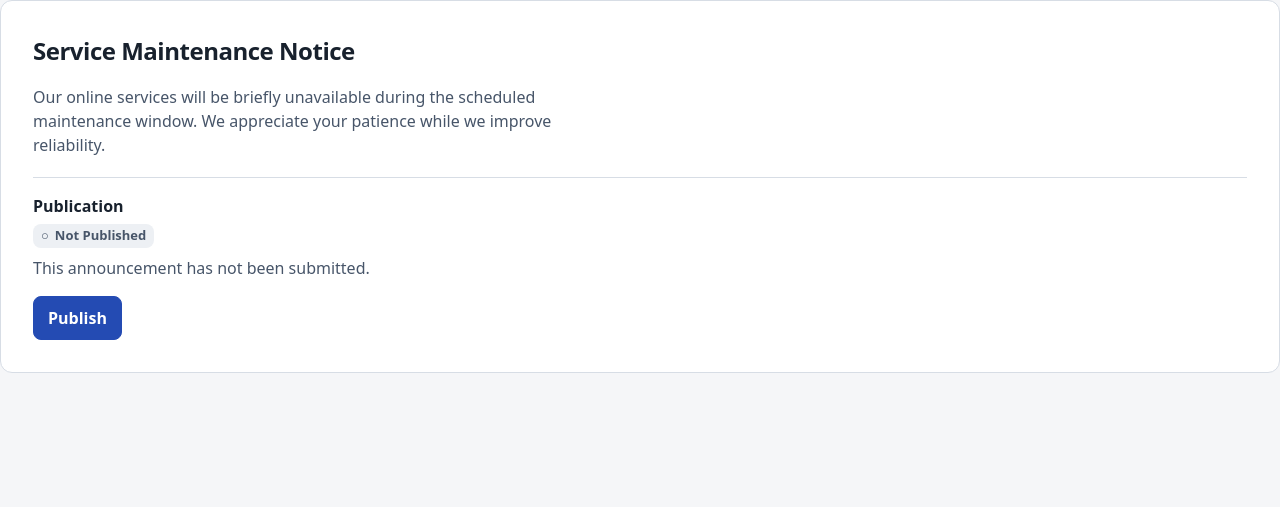
it: recovers a lost response with the original attempt and deduplicates rapid retries
Click the button "Publish" at (77, 318), box [33, 296, 122, 340]
Wait 120 ms
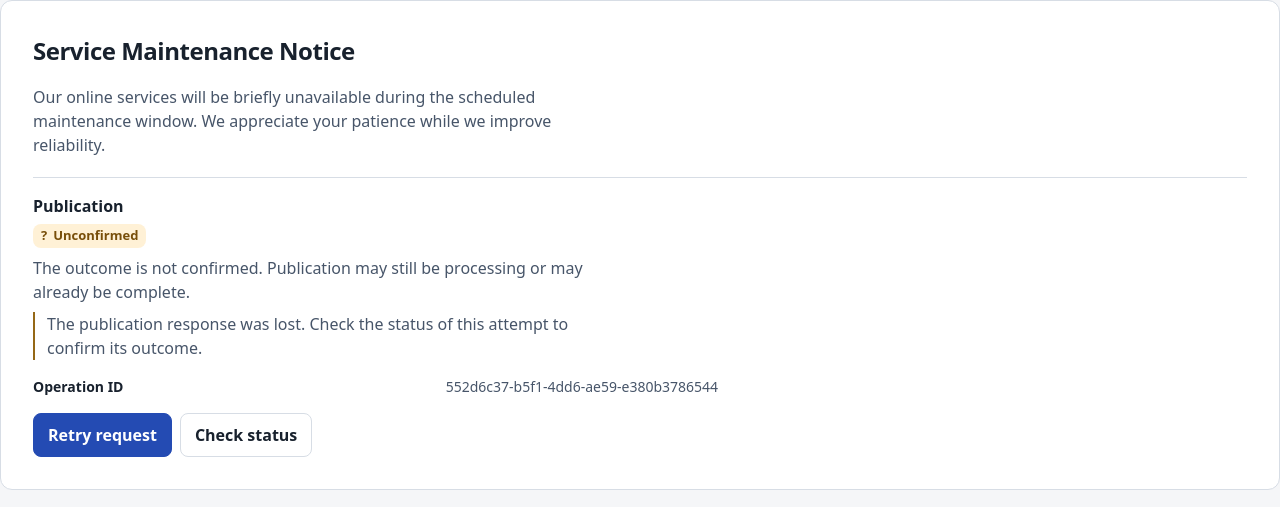
Result: the text "Unconfirmed" is shown at [53, 226, 138, 244]
Click the button "Retry request" at (102, 434), box [33, 412, 172, 456]
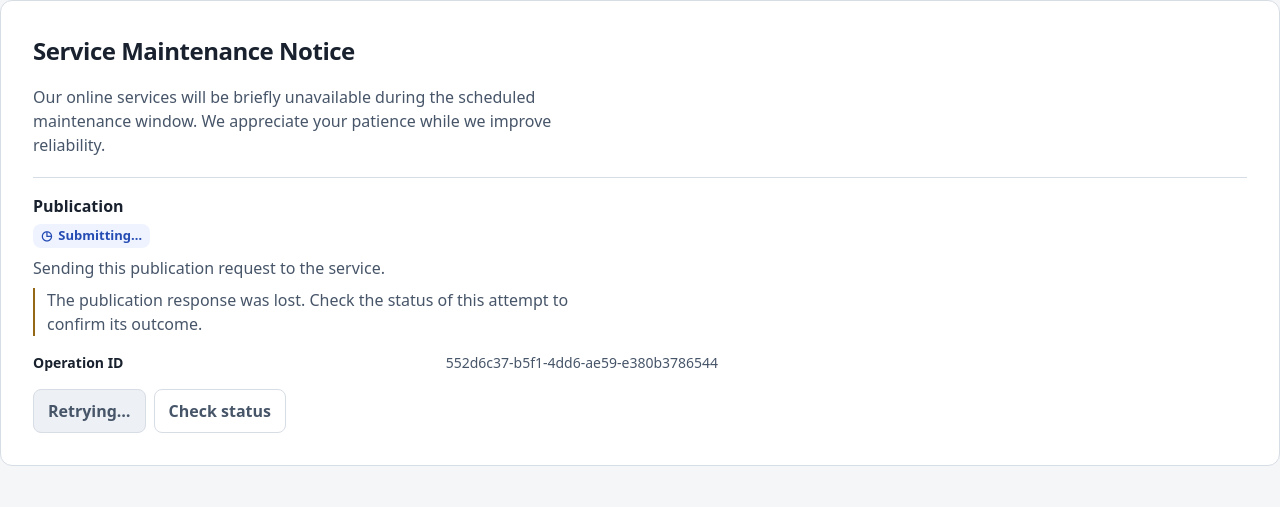
Click the button named "Retry request" at (89, 410), box [33, 388, 146, 432]
Wait 3120 ms
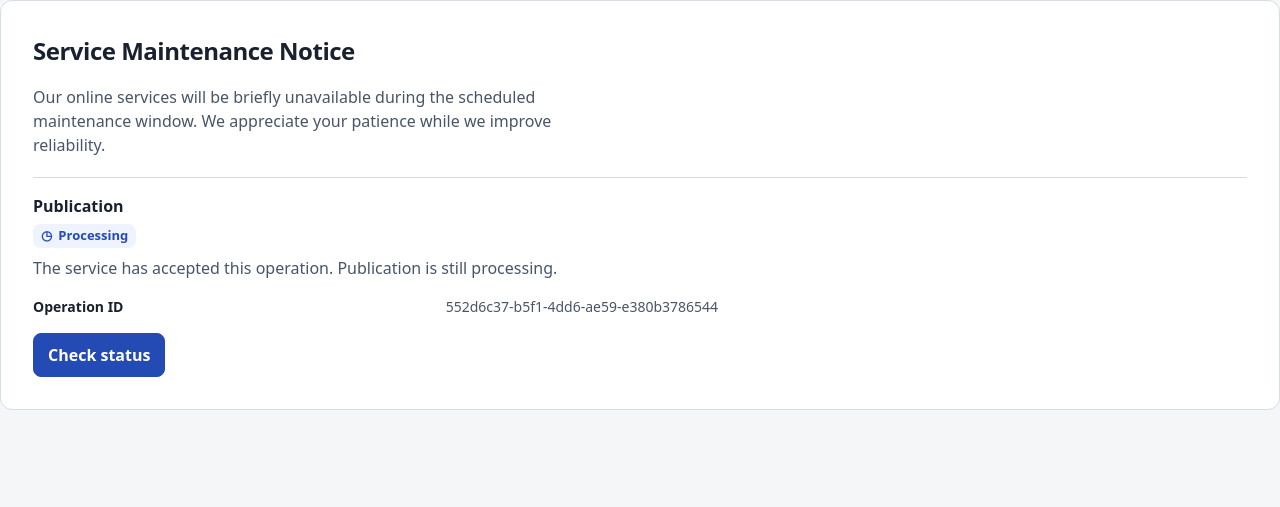
Result: the text "Processing" is shown at [58, 226, 128, 244]
Click the button "Check status" at (99, 354), box [33, 332, 165, 376]
Wait 200 ms
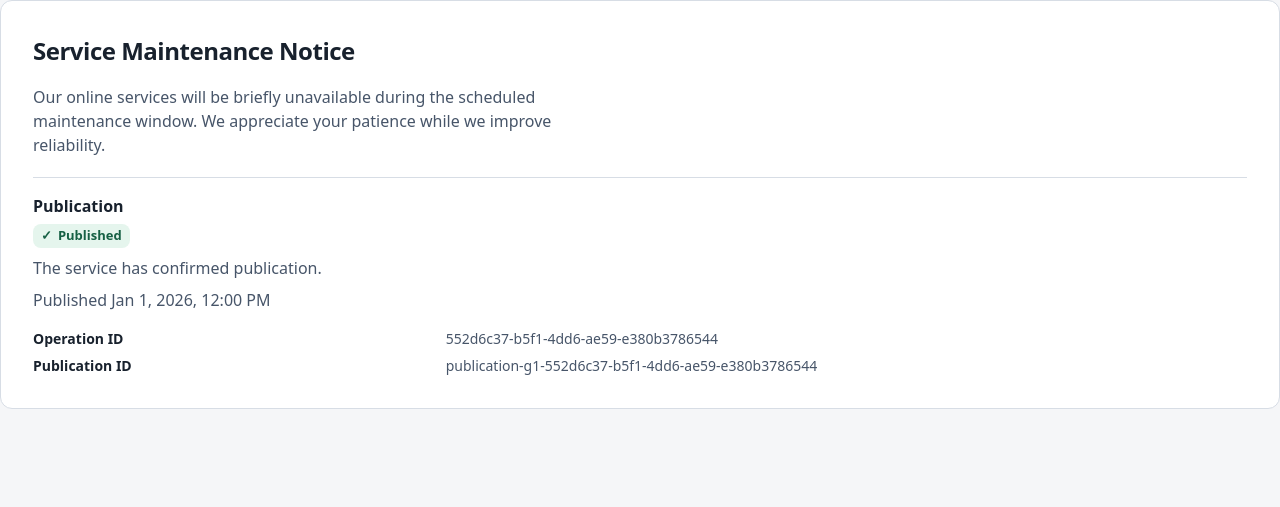
Result: the message does not show "response was lost" at [33, 224, 322, 310]
Result: the message shows "The service has confirmed publication." at [33, 256, 322, 278]
